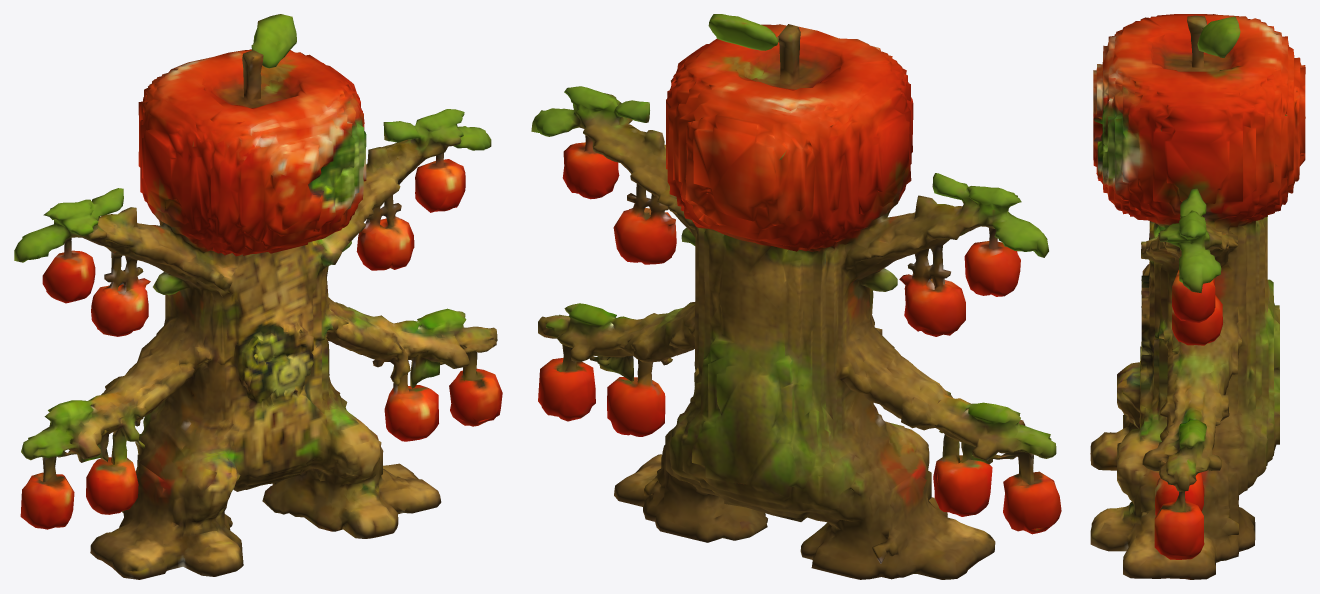
File: turing.glb
3 views of the same model, side by side, from view 1: azimuth 30°, elevation 25°; view 2: azimuth 150°, elevation 25°; view 3: azimuth 270°, elevation 25° (orthographic). The views are drawn at different scales.
Visible parts, largest first — view 1: model; view 2: model; view 3: model.
Boxes of the visible parts, x1=… form: model: x1=14, y1=14, x2=502, y2=579; model: x1=531, y1=14, x2=1061, y2=579; model: x1=1090, y1=14, x2=1305, y2=579.
Bounding box in the file's own units: 1.9 × 1.84 × 0.7221.
Materials: 1 (1 with a texture image).
